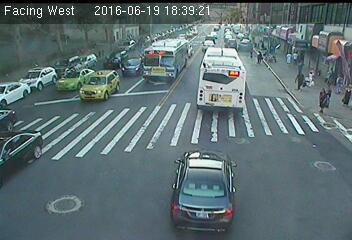neg: (327, 64, 340, 82), (272, 37, 283, 51), (241, 32, 252, 46), (313, 56, 322, 68)
pos: (315, 89, 334, 114), (291, 69, 308, 91), (341, 81, 351, 105), (253, 48, 266, 66), (289, 49, 301, 65), (282, 51, 293, 66)
